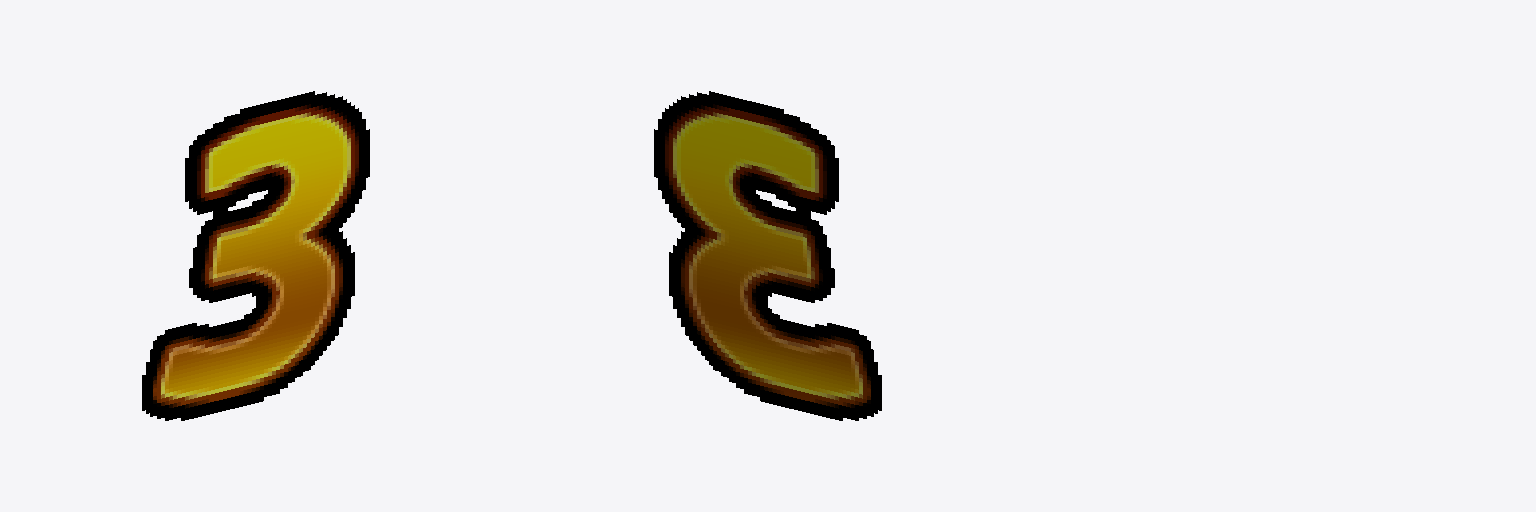
The picture shows the model from 3 angles: view 1: azimuth 30°, elevation 25°; view 2: azimuth 150°, elevation 25°; view 3: azimuth 270°, elevation 25°; orthographic projection.
Visible parts, largest first — view 1: Plane; view 2: Plane; view 3: none.
Part boxes in pixels (x1,y1,x2,y2): Plane: (142,91,369,420); Plane: (654,91,881,420).
Size of the model in its own units: 2 by 2 by 0.
1 materials, 1 textured.